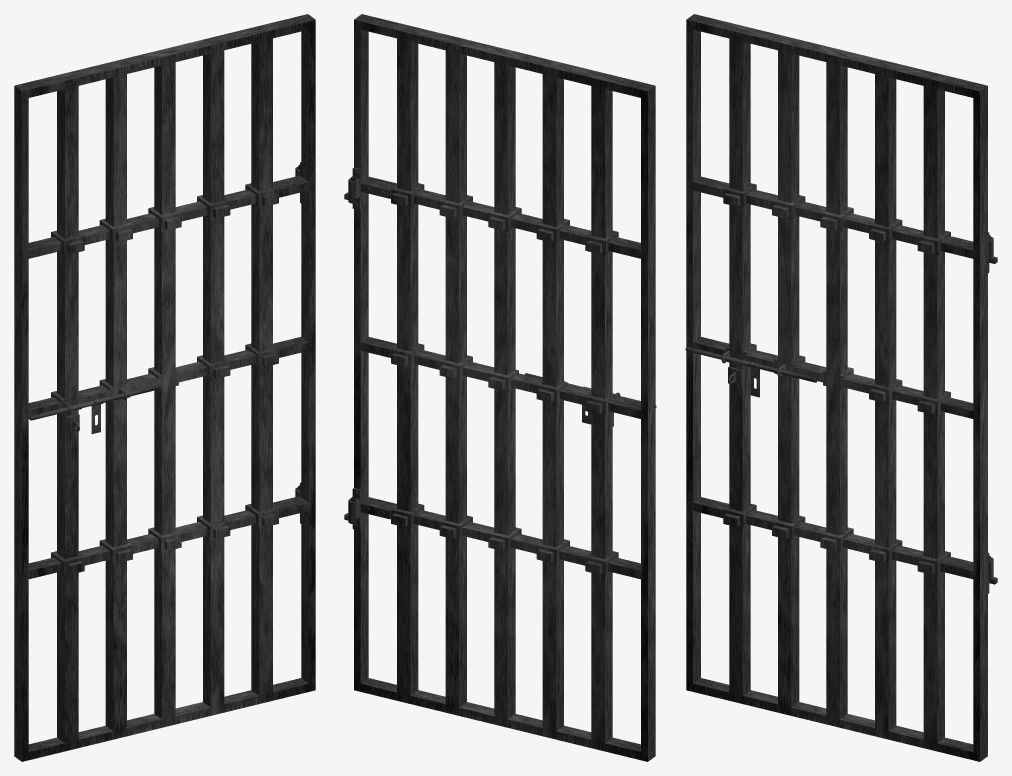
File: barreaux_porte_final.glb
3 renders of one model, left to right at view 1: azimuth 30°, elevation 25°; view 2: azimuth 150°, elevation 25°; view 3: azimuth 330°, elevation 25°, orthographic.
Visible parts, largest first — view 1: PORTE_PRISON; view 2: PORTE_PRISON; view 3: PORTE_PRISON.
Part boxes in pixels (x1,y1,x2,y2): PORTE_PRISON: [14, 14, 315, 761]; PORTE_PRISON: [344, 14, 656, 761]; PORTE_PRISON: [685, 14, 997, 761].
Size of the model in its own units: 1.36 by 2.91 by 0.171.
Materials: 1 (1 with a texture image).
